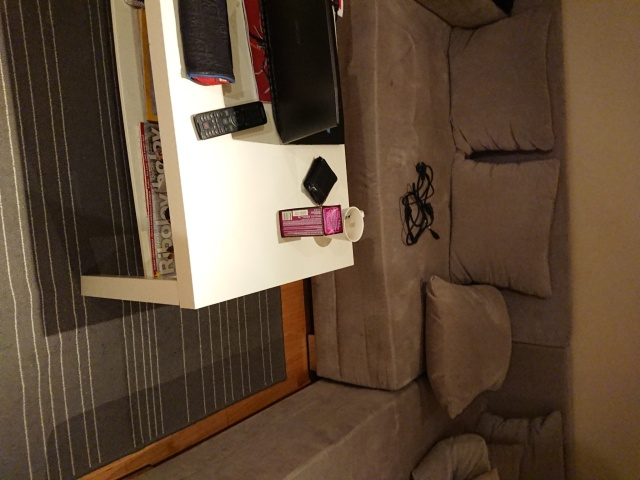Franck Black Currant Tea 60g: (276, 203, 345, 239)
